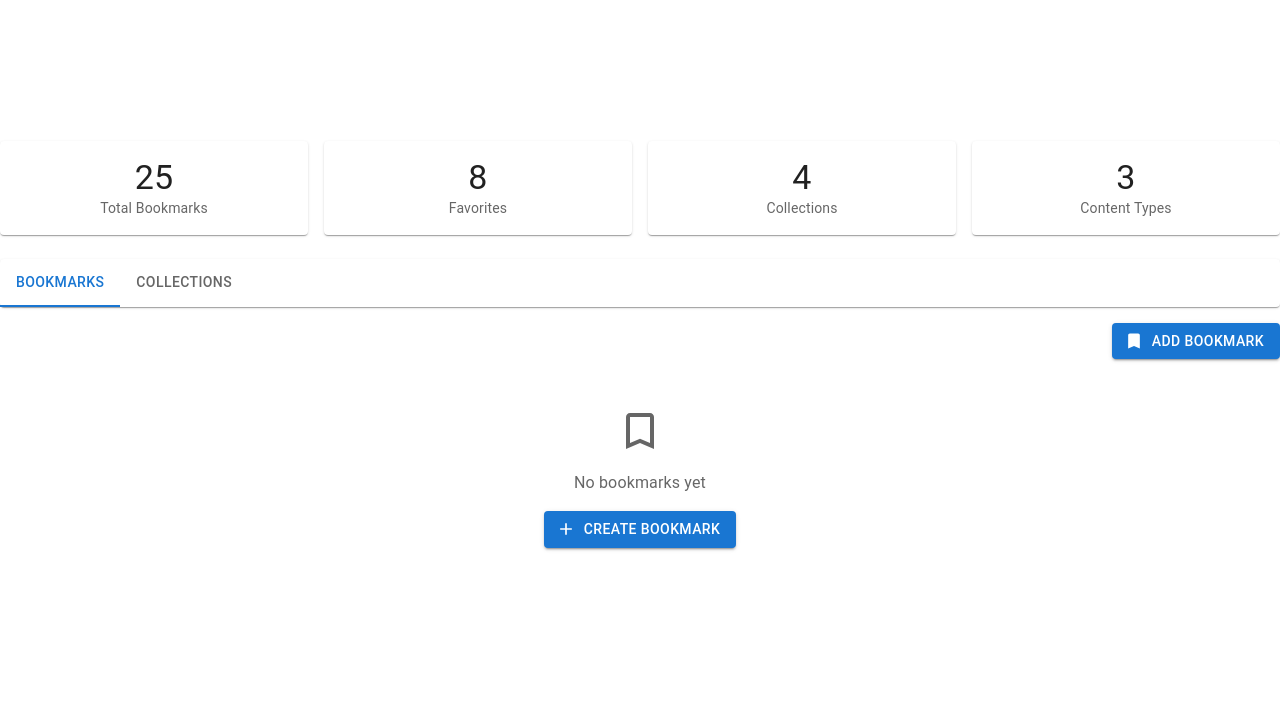
Test case: BookmarkManager Component › Create Bookmark › should allow adding tags
Click the button "Add Bookmark" at {"x": 1196, "y": 341}, box top-left (1112, 322), bottom-right (1279, 359)
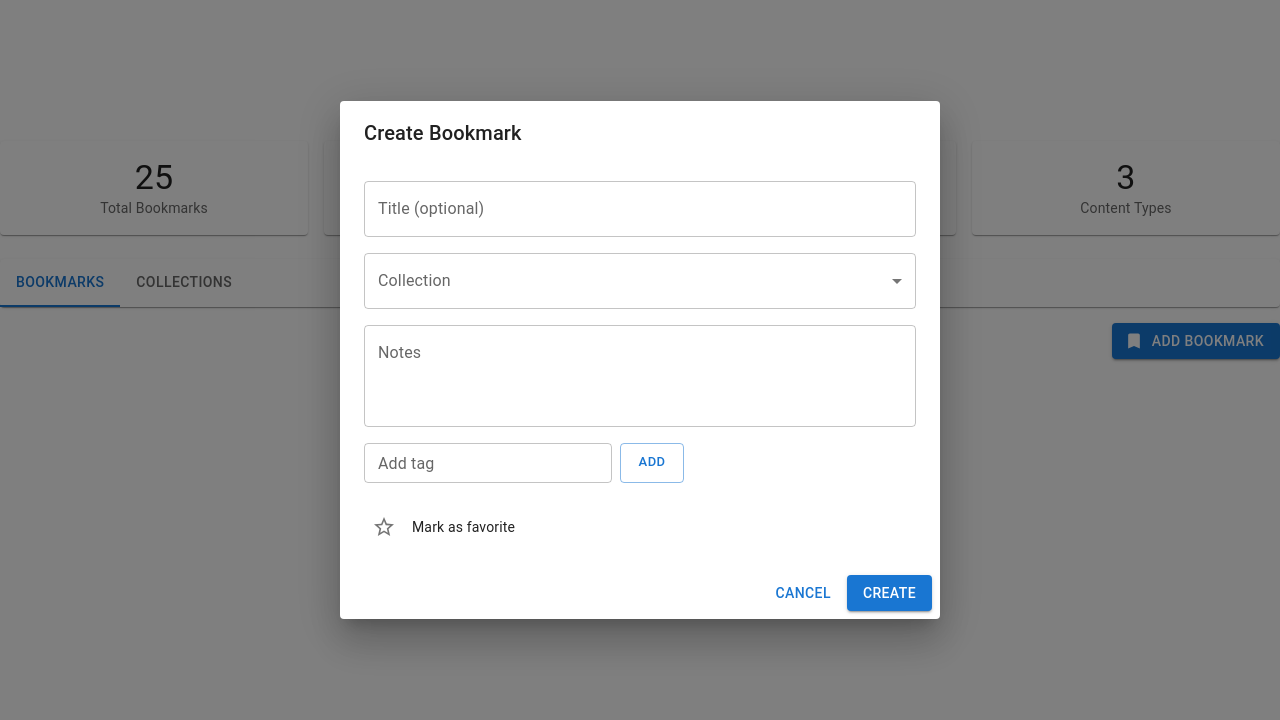
Now the field labelled "Add tag" is shown
Type "test-tag" into the field labelled "Add tag" at {"x": 488, "y": 463}, box top-left (364, 443), bottom-right (612, 483)
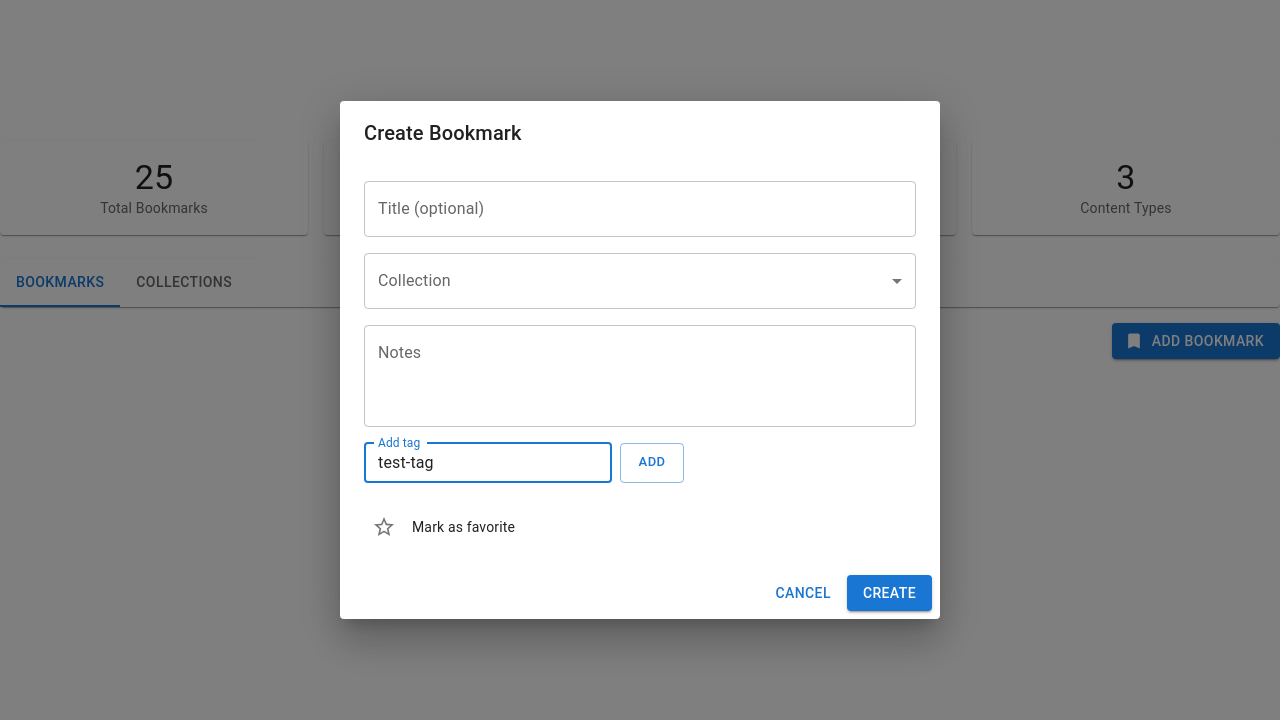
Click the button "Add" at {"x": 652, "y": 463}, box top-left (620, 443), bottom-right (684, 483)
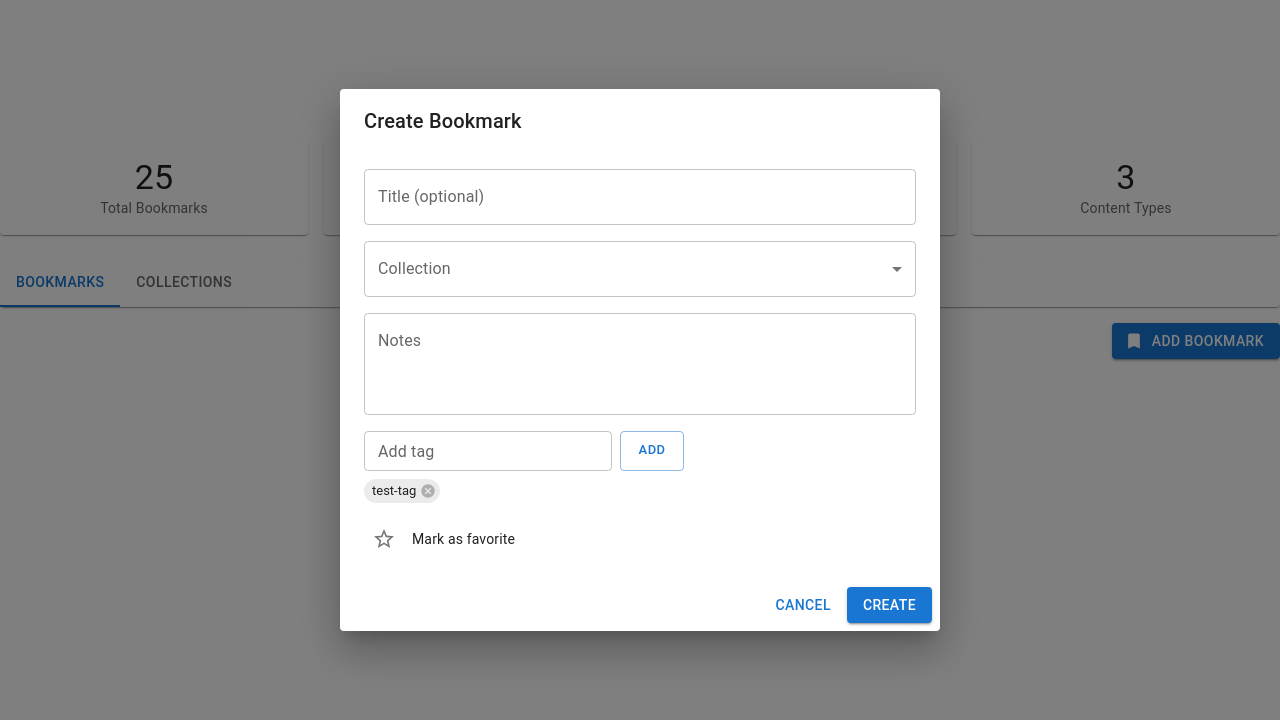
Now the text "test-tag" is shown, box top-left (372, 483), bottom-right (416, 498)
